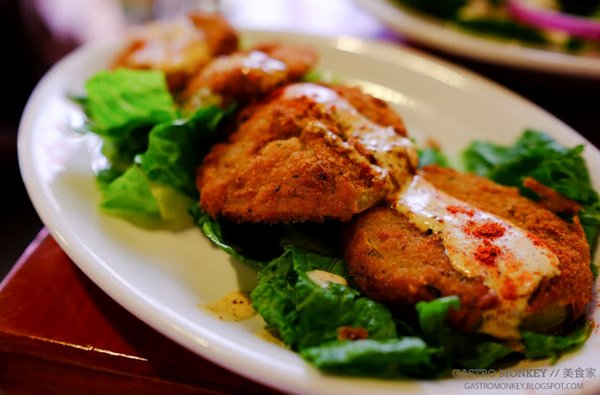curry: (4, 1, 599, 383)
